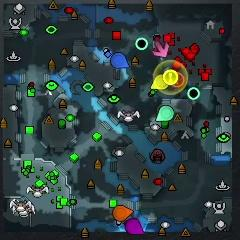Other: (163, 70, 178, 85), (171, 72, 185, 88)
p1: (110, 52, 129, 69)
p2: (156, 106, 175, 122)
p2Clone: (136, 37, 148, 51), (187, 87, 200, 99)
p3: (126, 218, 144, 235)
p4: (150, 74, 168, 90)
p5: (113, 205, 133, 220)
x1: (153, 41, 169, 58)
